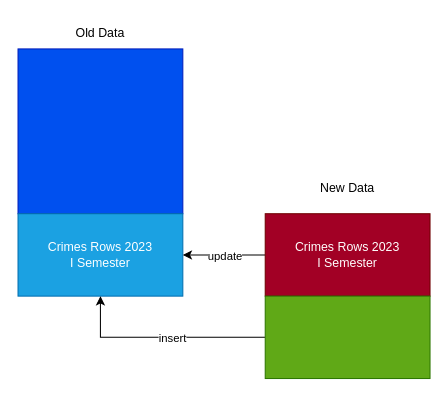
The diagram is 448 pixels wide and 397 high, and some of its shapes have lost their labels. The shapes that lost their labels are listed below. From the top down, each one's box as (x1, y1, x2, y2) in pixels, then its label:
(17, 48, 183, 214): Crimes Rows 2022
(264, 295, 430, 379): Crimes Rows 2023 II Semester
